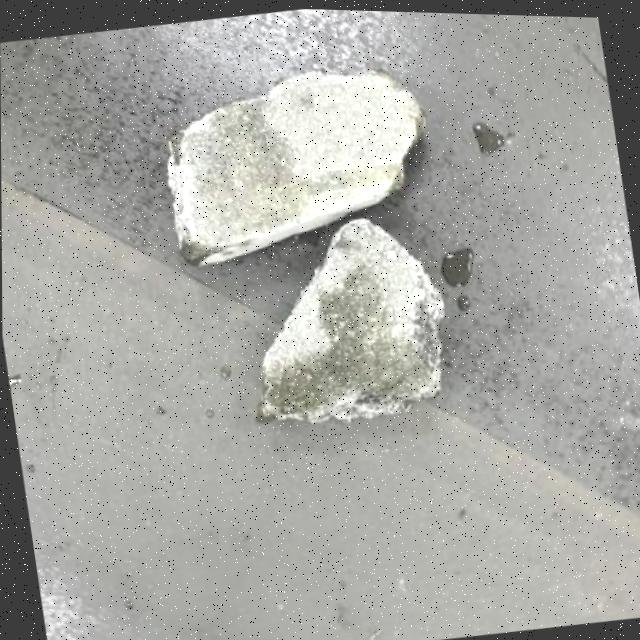Road Debris: (251, 254, 438, 434), (168, 87, 313, 253), (300, 148, 414, 202)
